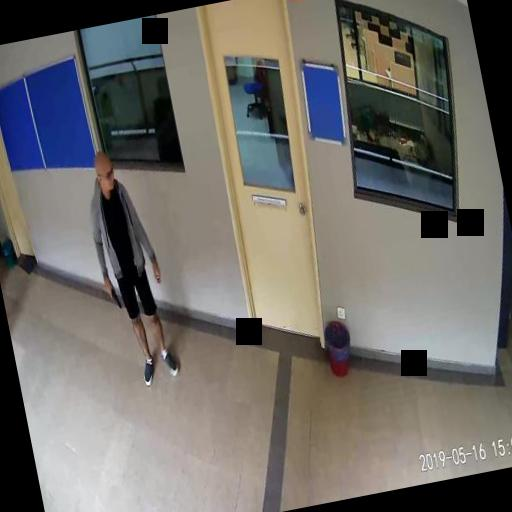Handgun: (106, 282, 120, 308)
